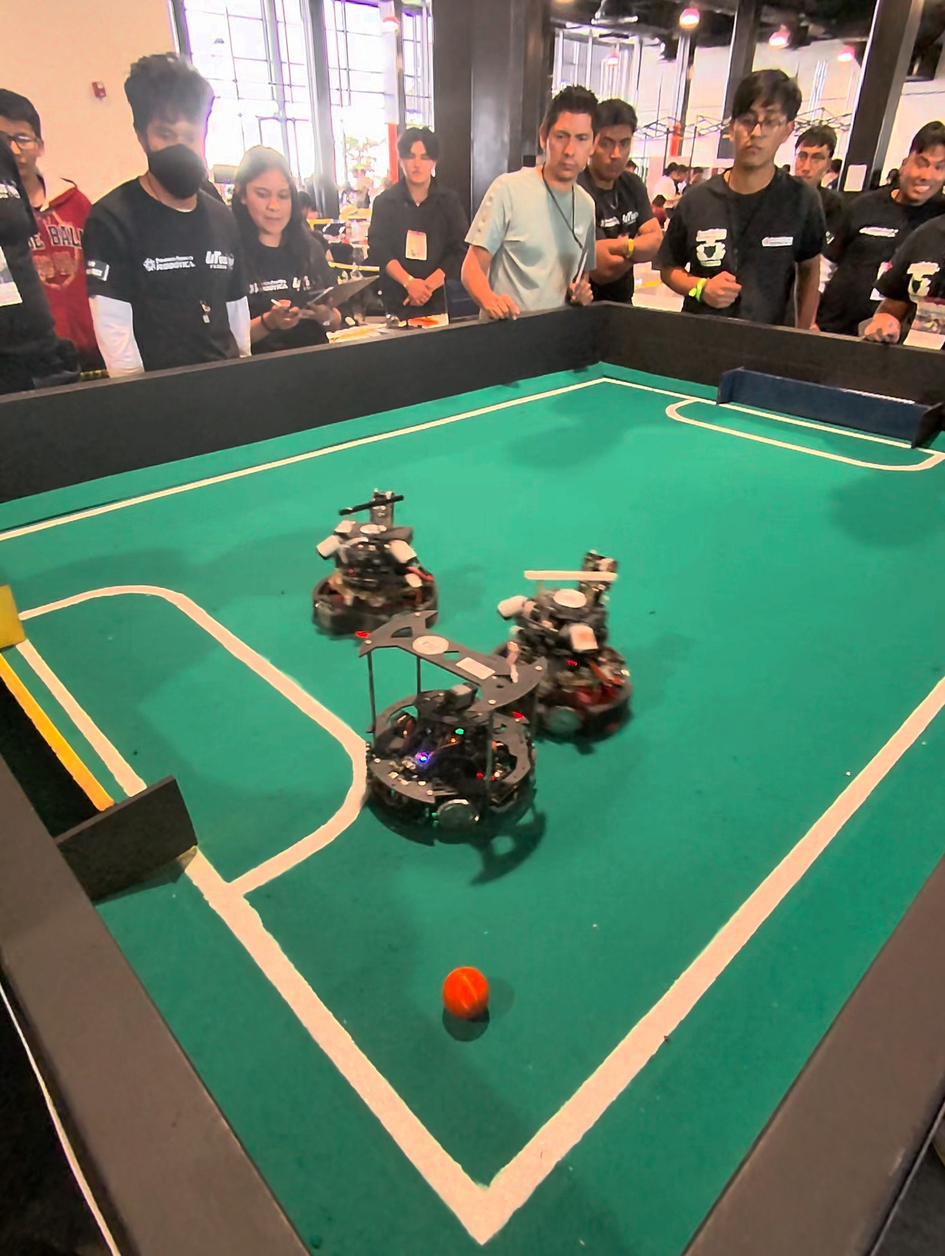Robot: (355, 621, 542, 868), (492, 538, 632, 763), (305, 487, 436, 639)
pelota: (441, 970, 492, 1035)
